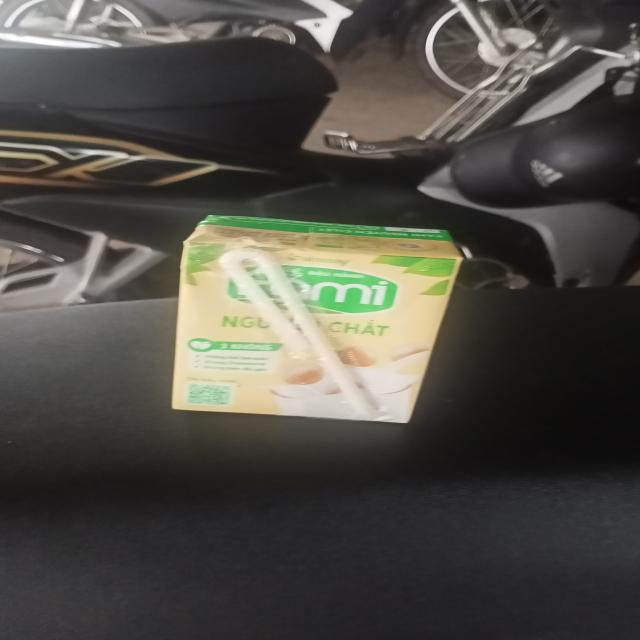Fami: (168, 215, 465, 423)
